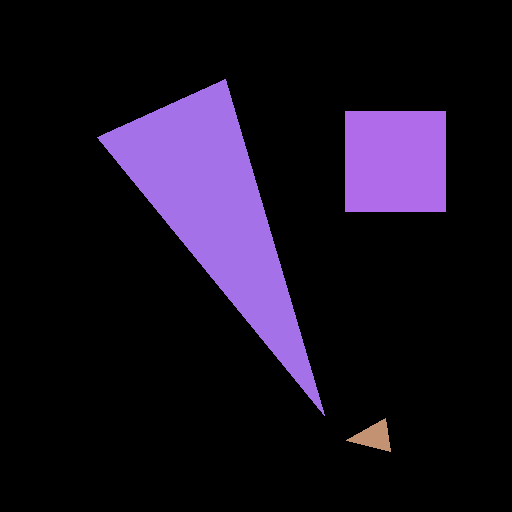square: (345, 111, 445, 211)
triangle: (97, 79, 324, 415), (346, 418, 390, 451)
